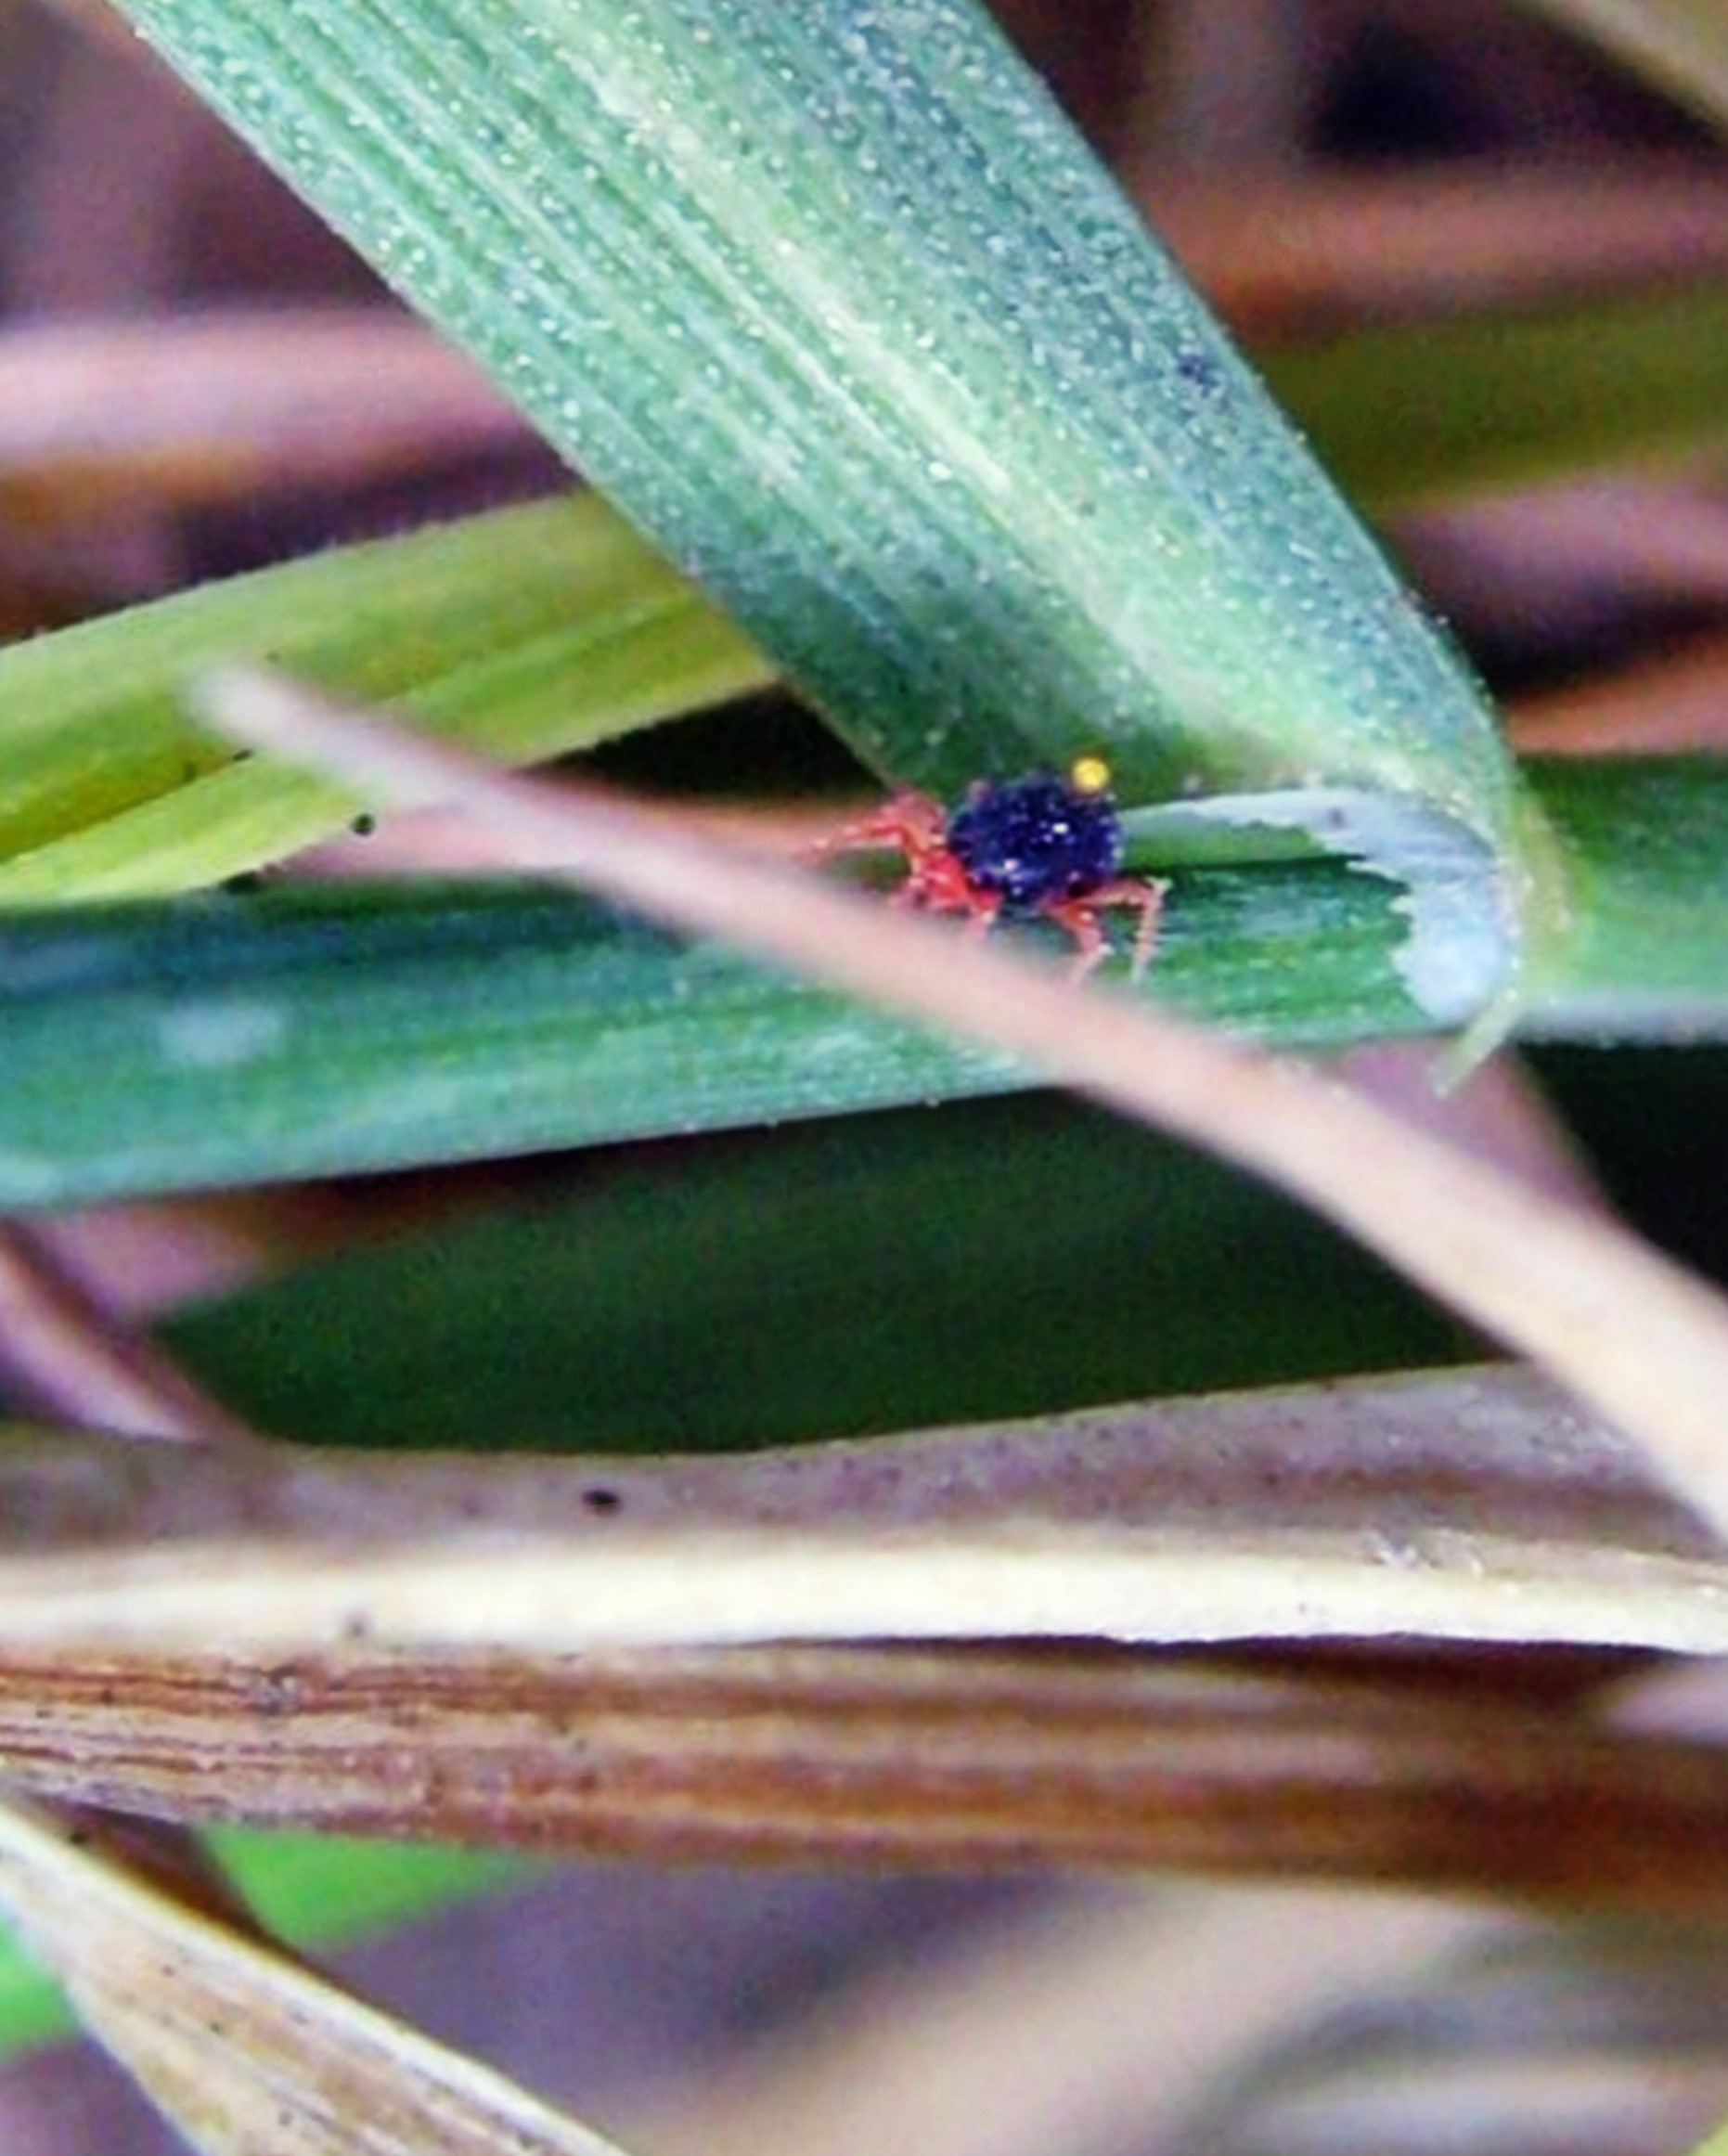Wheat Red Spider: (790, 728, 1204, 996)
